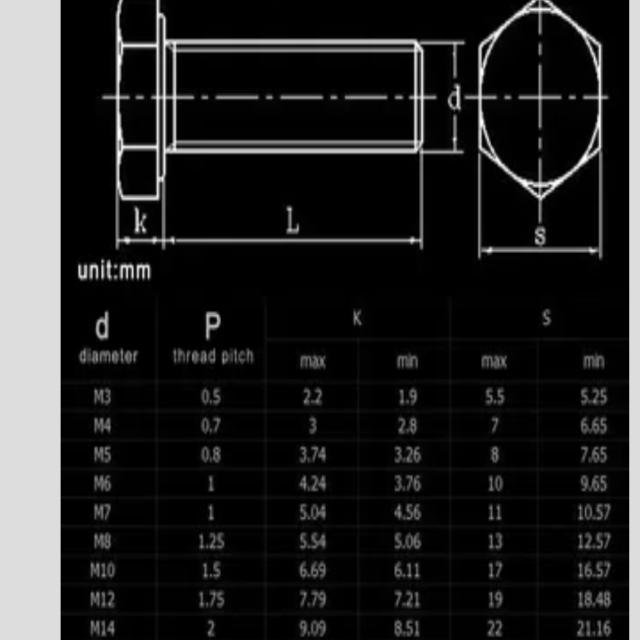marking_line: (157, 202, 426, 250), (475, 202, 605, 257), (424, 39, 465, 156), (114, 203, 170, 247)
numeric: (298, 560, 308, 582), (215, 590, 226, 609), (207, 619, 217, 639), (393, 558, 403, 578), (575, 617, 585, 637), (200, 416, 210, 435), (393, 529, 402, 550), (201, 445, 210, 465), (214, 385, 223, 405), (212, 561, 222, 579), (315, 388, 324, 408), (319, 558, 328, 578), (393, 473, 402, 493), (406, 532, 415, 552), (580, 386, 589, 406), (584, 589, 593, 609), (309, 415, 317, 437), (208, 531, 217, 550), (302, 388, 311, 407), (414, 474, 423, 493), (485, 619, 494, 638), (213, 446, 223, 463), (299, 532, 308, 550), (319, 620, 328, 638), (309, 560, 318, 578), (318, 532, 327, 550), (414, 446, 423, 464), (405, 502, 414, 520), (393, 619, 402, 637), (604, 590, 613, 608), (319, 475, 329, 491), (298, 501, 306, 521), (300, 588, 308, 608), (397, 416, 405, 436), (484, 387, 492, 407), (604, 618, 612, 638), (495, 620, 504, 637), (603, 533, 612, 550), (217, 530, 225, 549), (310, 444, 318, 463), (409, 387, 417, 406), (405, 474, 413, 493), (486, 503, 494, 522), (495, 560, 503, 579), (494, 590, 502, 609), (600, 444, 608, 463), (592, 474, 600, 493), (604, 502, 612, 521), (585, 560, 593, 579), (300, 616, 307, 637), (410, 414, 417, 435), (201, 388, 209, 406), (213, 416, 221, 434), (299, 473, 307, 491), (320, 445, 328, 463), (312, 502, 320, 520), (310, 619, 318, 637), (319, 590, 327, 608), (393, 446, 401, 464), (414, 532, 422, 550), (491, 414, 499, 432), (491, 445, 499, 463), (497, 475, 505, 493), (580, 416, 588, 434), (600, 474, 608, 492), (580, 474, 588, 492), (209, 589, 216, 609), (406, 617, 413, 637), (596, 502, 603, 522), (596, 590, 603, 610), (299, 446, 307, 463), (415, 503, 423, 520), (394, 503, 402, 520), (413, 594, 421, 611), (600, 388, 608, 405), (310, 531, 317, 550), (407, 445, 414, 464), (498, 387, 505, 406), (487, 473, 494, 492), (488, 532, 495, 551), (487, 561, 494, 580), (592, 415, 599, 434), (601, 416, 608, 435), (596, 532, 603, 551), (603, 560, 610, 579), (585, 504, 593, 520), (207, 474, 214, 492), (395, 589, 402, 607), (496, 532, 503, 550), (592, 445, 599, 463), (581, 445, 588, 463), (577, 532, 584, 550), (592, 386, 598, 406), (577, 560, 583, 580), (198, 591, 205, 608), (405, 561, 412, 578), (202, 561, 208, 580), (407, 591, 413, 610), (496, 503, 502, 522), (208, 504, 215, 520), (321, 503, 327, 521), (311, 590, 317, 608), (597, 561, 603, 579), (596, 619, 602, 637), (312, 474, 318, 491), (414, 561, 420, 578), (585, 531, 591, 548), (415, 619, 420, 639), (488, 589, 493, 609), (585, 618, 590, 638), (399, 390, 405, 406), (578, 503, 583, 521), (578, 592, 583, 610), (199, 532, 204, 549)
